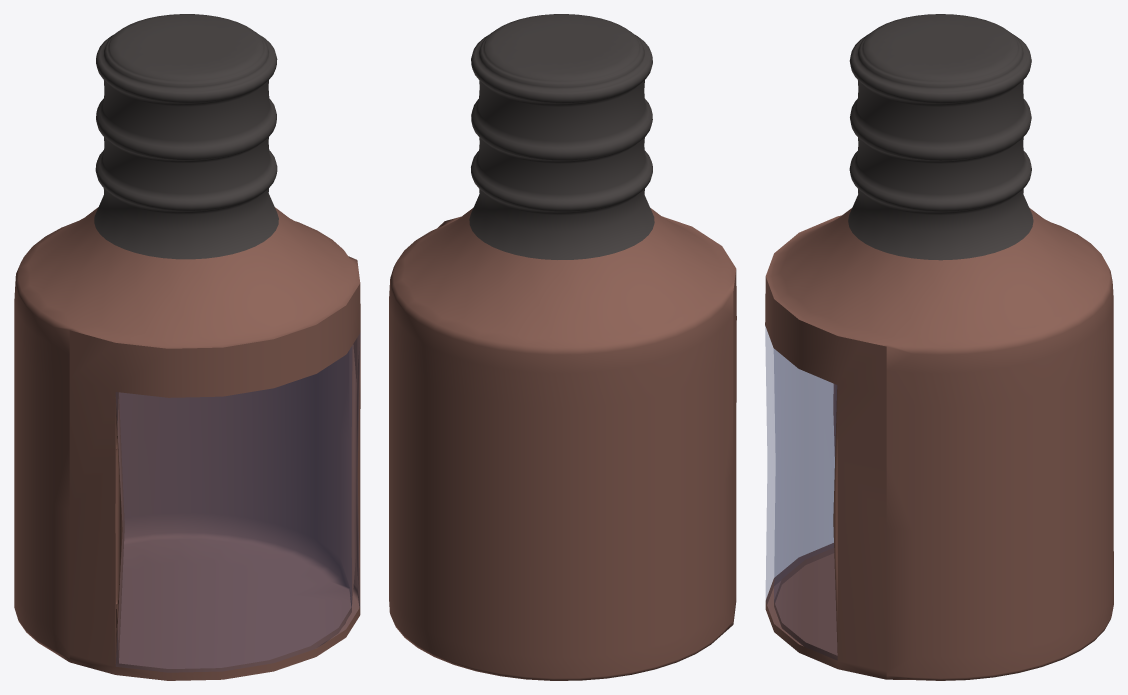
File: amoothCapsule.fbx
3 views of the same model, side by side, from view 1: azimuth 30°, elevation 25°; view 2: azimuth 150°, elevation 25°; view 3: azimuth 270°, elevation 25° (orthographic).
Visible parts, largest first — view 1: pCylinder5; view 2: pCylinder5; view 3: pCylinder5.
Boxes of the visible parts, box(x1,y1,x2,y2) form: pCylinder5: box(14, 14, 360, 680); pCylinder5: box(389, 14, 736, 680); pCylinder5: box(765, 14, 1113, 680).
Bounding box in the file's own units: 4.15 × 7.48 × 4.18.
